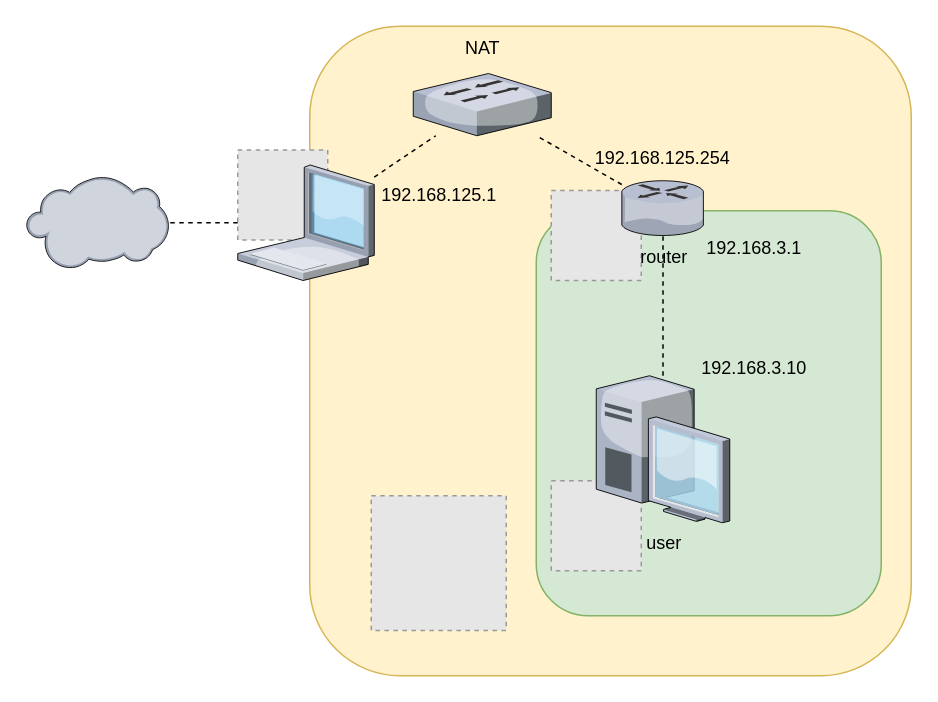
The diagram is 938 pixels wide and 702 high, and some of its shapes have lost their labels. Grey dashed boxes stand in for pictures. The box of each missing label's shape, as (x1, y1, x2, y2) in pixels:
Internet access: (26, 176, 168, 268)
VMnet8: (412, 73, 550, 135)
